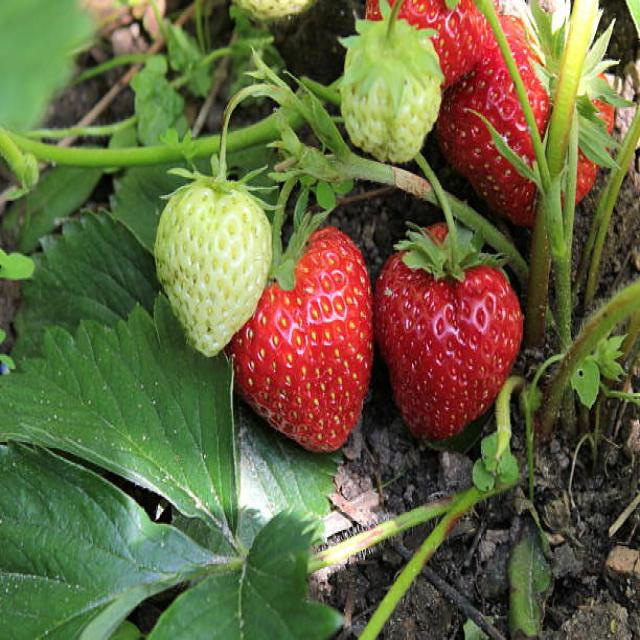Healthy Fruit: (225, 228, 372, 455), (371, 222, 523, 440), (155, 183, 274, 360)
